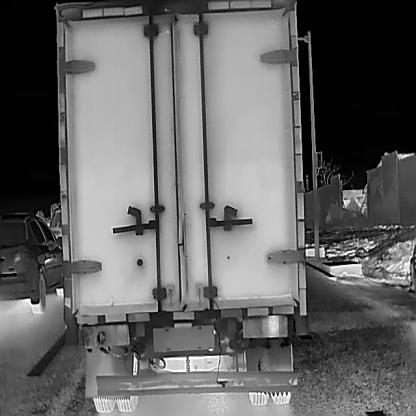car: (0, 214, 69, 314)
truck: (51, 0, 308, 414)
